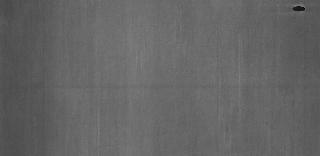punching hole: (291, 5, 307, 13)
